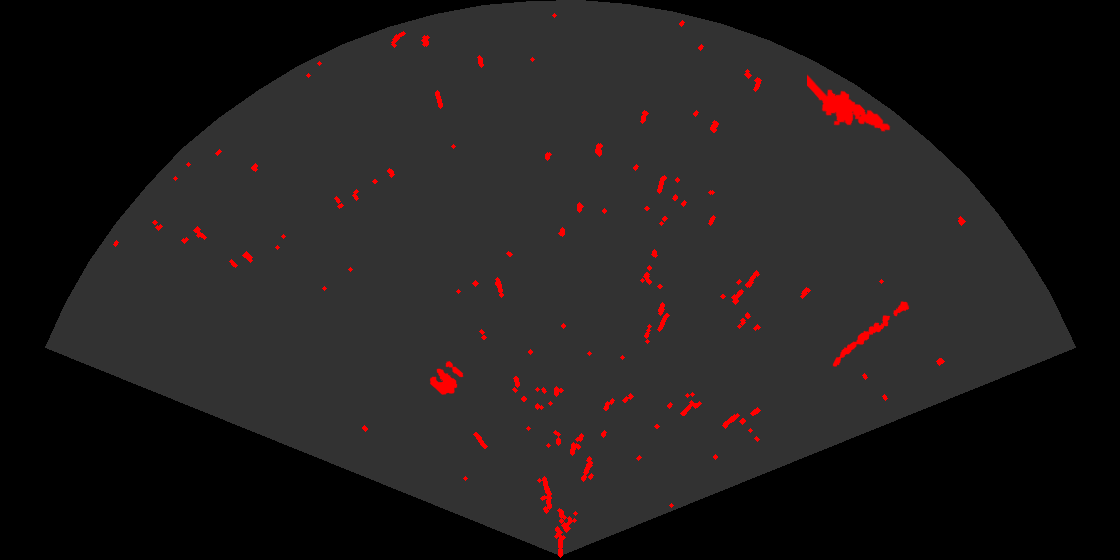ball: (428, 359, 465, 396)
chain: (831, 300, 911, 368)
frogman: (807, 73, 892, 133)
